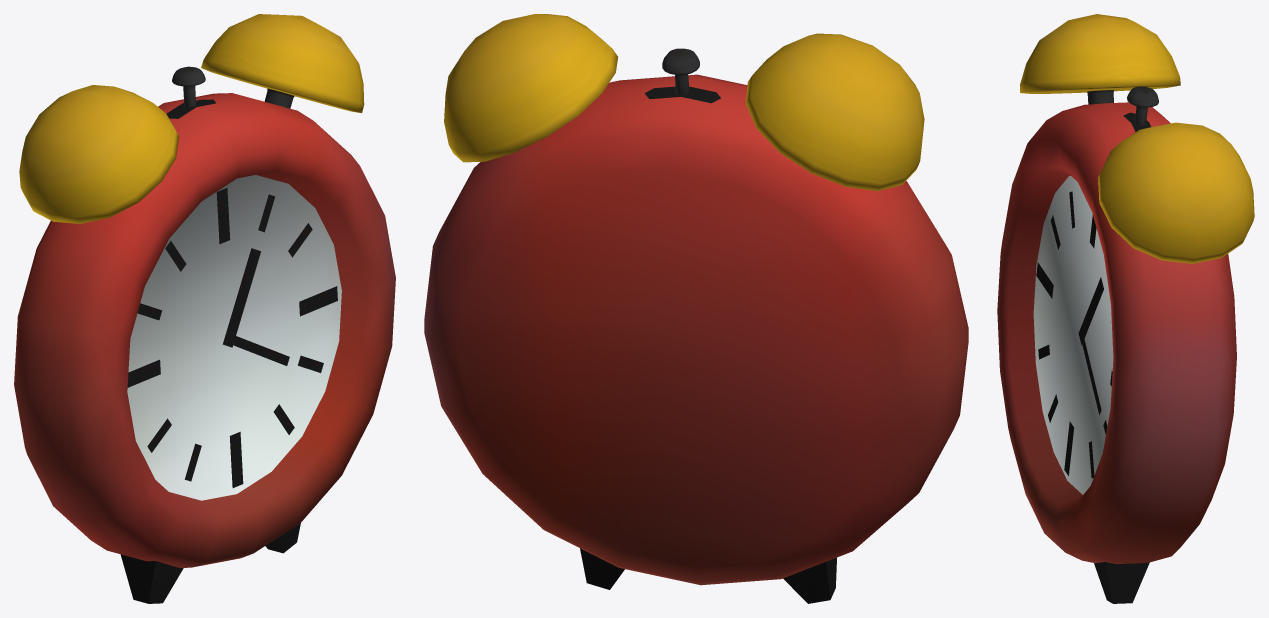
Rendered from clock.glb.
3 views of the same model, side by side, from view 1: azimuth 30°, elevation 25°; view 2: azimuth 150°, elevation 25°; view 3: azimuth 270°, elevation 25° (orthographic). The views are drawn at different scales.
Bounding box in the file's own units: 1.9 × 2.27 × 1.07.
Materials: 1 (1 with a texture image).
